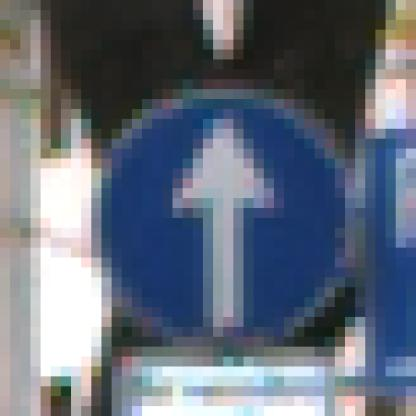AheadOnly: (62, 51, 356, 358)
